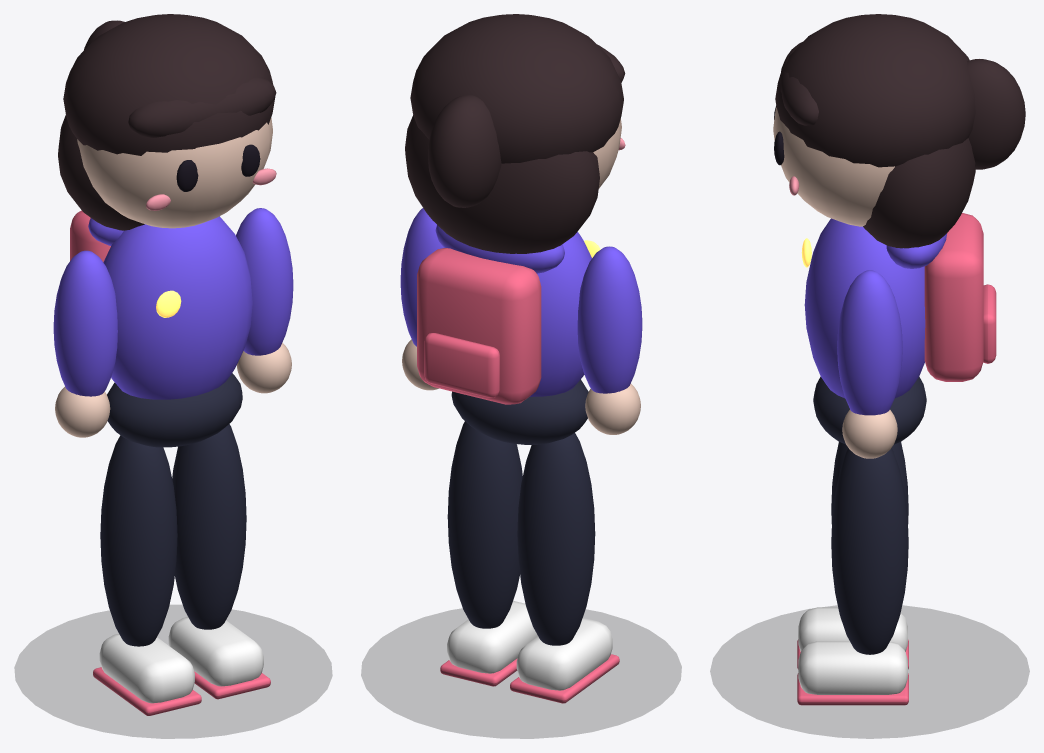
The model's file is character.glb.
The picture shows the model from 3 angles, left to right: view 1: azimuth 30°, elevation 25°; view 2: azimuth 150°, elevation 25°; view 3: azimuth 270°, elevation 25°; orthographic projection.
Visible parts, largest first — view 1: Torso, FootShadow, HairTop, LegL, LegR, Head, ArmL, Pelvis, ArmR, ShoeL, ShoeR, Bangs (+9 smaller); view 2: HairTop, FootShadow, LegL, Backpack, HairBack, LegR, ArmL, Ponytail, Torso, Pelvis, ShoeL, BackpackPocket (+8 smaller); view 3: FootShadow, HairTop, LegR, Torso, Backpack, HairBack, ArmR, Head, ShoeR, Ponytail, Pelvis, HandR (+6 smaller).
Boxes of the visible parts, <box> form: Torso: <box>103,216,252,399</box>; FootShadow: <box>14,605,332,738</box>; HairTop: <box>63,14,275,155</box>; LegL: <box>100,435,177,646</box>; LegR: <box>172,424,246,629</box>; Head: <box>77,118,272,228</box>; ArmL: <box>53,250,117,396</box>; Pelvis: <box>107,373,242,447</box>; ArmR: <box>236,208,293,355</box>; ShoeL: <box>99,633,194,703</box>; ShoeR: <box>168,617,263,686</box>; Bangs: <box>128,77,276,137</box>; HairTop: <box>410,14,623,163</box>; FootShadow: <box>361,608,681,738</box>; LegL: <box>517,433,595,645</box>; Backpack: <box>417,248,541,404</box>; HairBack: <box>405,115,599,253</box>; LegR: <box>447,421,522,628</box>; ArmL: <box>577,246,642,393</box>; Ponytail: <box>428,95,501,207</box>; Torso: <box>529,232,591,396</box>; Pelvis: <box>451,379,588,444</box>; ShoeL: <box>516,618,612,690</box>; BackpackPocket: <box>424,333,499,397</box>; FootShadow: <box>710,605,1029,738</box>; HairTop: <box>775,14,975,167</box>; LegR: <box>831,448,908,654</box>; Torso: <box>804,218,925,398</box>; Backpack: <box>924,213,983,381</box>; HairBack: <box>863,138,975,248</box>; ArmR: <box>837,270,902,415</box>; Head: <box>773,107,894,226</box>; ShoeR: <box>798,641,907,694</box>; Ponytail: <box>967,59,1025,169</box>; Pelvis: <box>813,376,926,444</box>; HandR: <box>842,410,897,458</box>.
Bounding box in the file's own units: 0.76 × 1.7 × 0.76.
